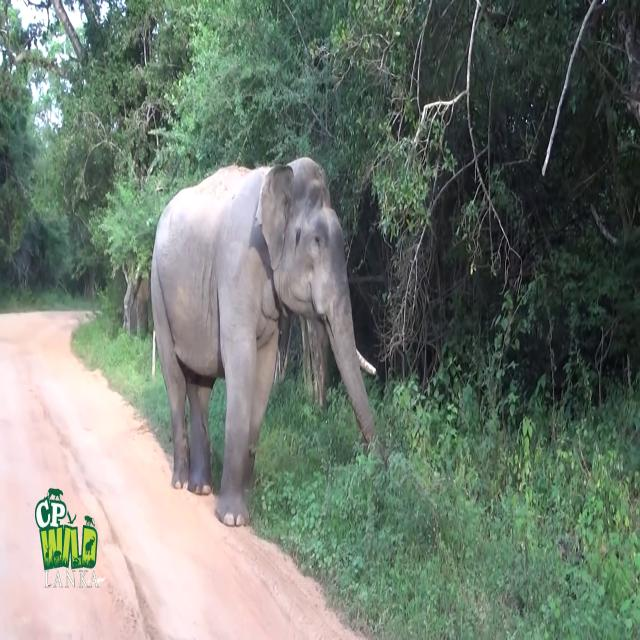Elephant: (150, 155, 385, 528)
